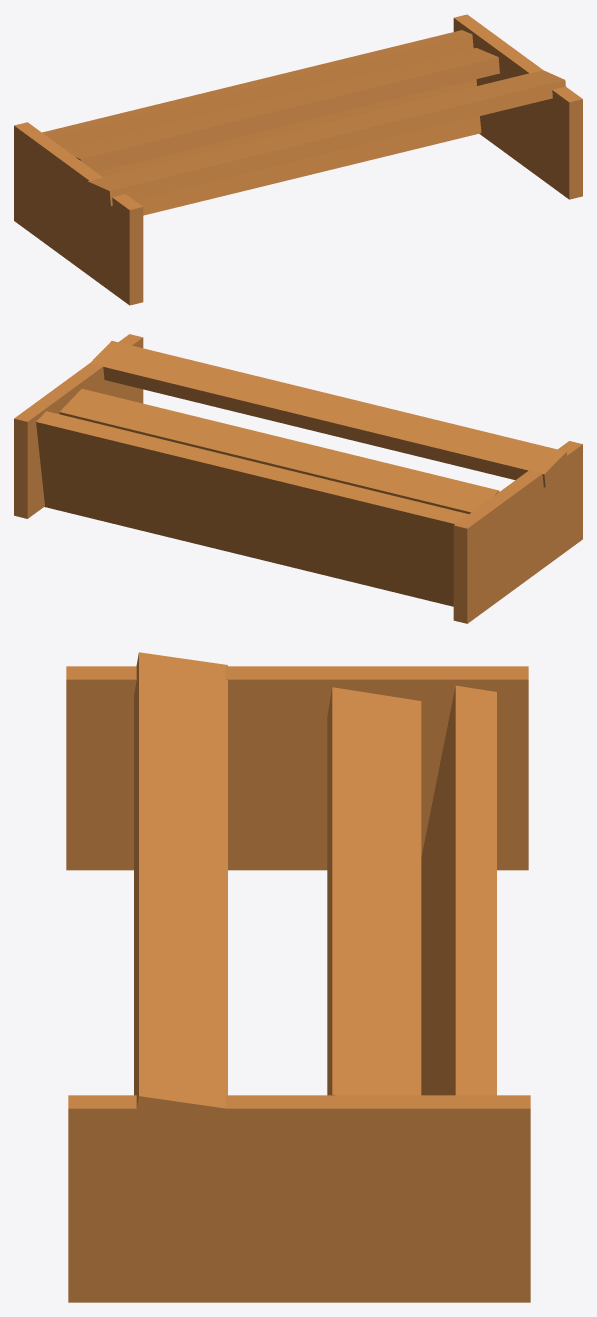
Rendered from tinker.obj.
The picture shows the model from 3 angles, top to bottom: view 1: azimuth 30°, elevation 25°; view 2: azimuth 150°, elevation 25°; view 3: azimuth 270°, elevation 25°; orthographic projection. The views are drawn at different scales.
Parts seen in each view (by area): view 1: obj_0; view 2: obj_0; view 3: obj_0.
Part boxes in pixels (<box>): obj_0: <box>14,14,582,305</box>; obj_0: <box>14,334,582,623</box>; obj_0: <box>66,652,530,1302</box>.
Bounding box in the file's own units: 500 × 110 × 221.
